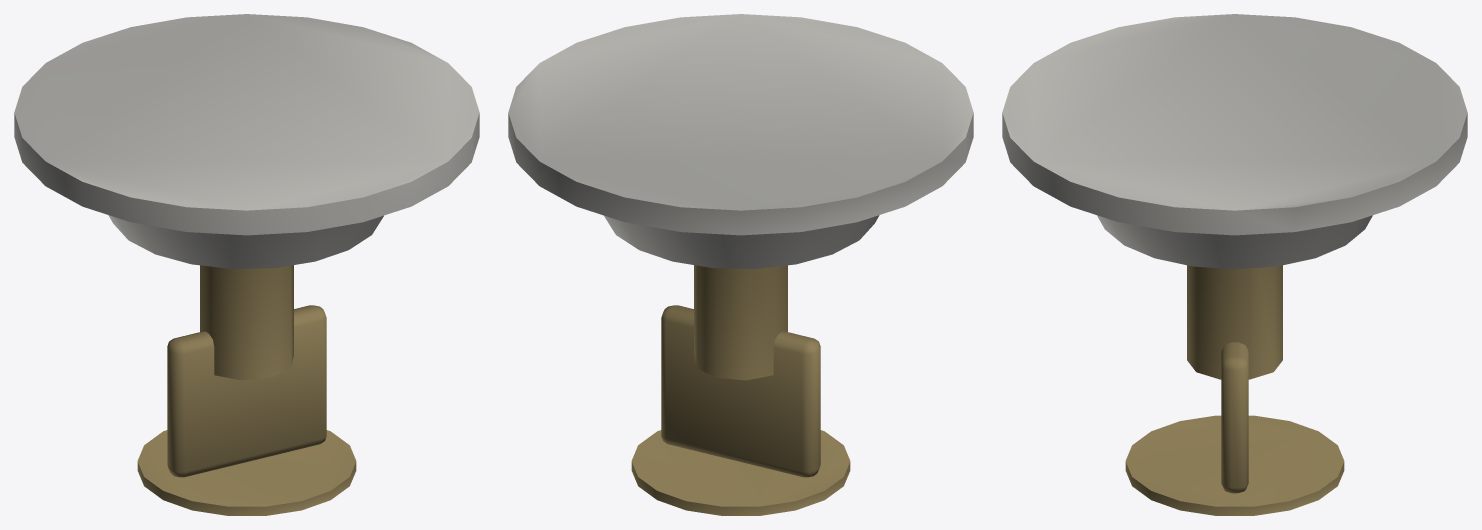
The model's file is sprinkler.glb.
The picture shows the model from 3 angles, left to right: view 1: azimuth 30°, elevation 25°; view 2: azimuth 150°, elevation 25°; view 3: azimuth 270°, elevation 25°; orthographic projection.
Visible parts, largest first — view 1: sprinkler; view 2: sprinkler; view 3: sprinkler.
Part boxes in pixels (x1,y1,x2,y2): sprinkler: [14, 14, 479, 515]; sprinkler: [508, 14, 973, 515]; sprinkler: [1002, 14, 1467, 515].
Size of the model in its own units: 0.068 by 0.0578 by 0.068.
